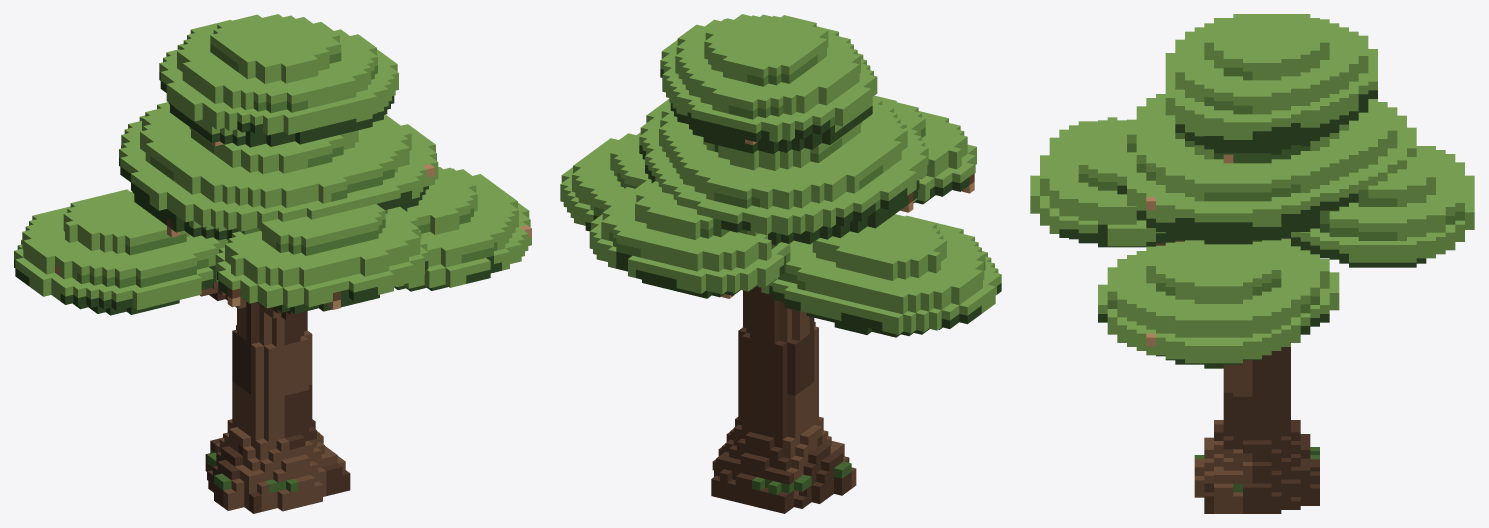
The model's file is Mountain_Oak_v3_A.fbx.
The picture shows the model from 3 angles, left to right: view 1: azimuth 30°, elevation 25°; view 2: azimuth 150°, elevation 25°; view 3: azimuth 270°, elevation 25°; orthographic projection. The views are drawn at different scales.
Visible parts, largest first — view 1: Mountain_Oak_v3_A; view 2: Mountain_Oak_v3_A; view 3: Mountain_Oak_v3_A.
Boxes of the visible parts, x1,y1,x2,y2 form: Mountain_Oak_v3_A: (14, 14, 531, 513); Mountain_Oak_v3_A: (560, 14, 1001, 513); Mountain_Oak_v3_A: (1030, 14, 1474, 513).
Bounding box in the file's own units: 3.67 × 3.47 × 3.07.
1 material, 1 textured.
